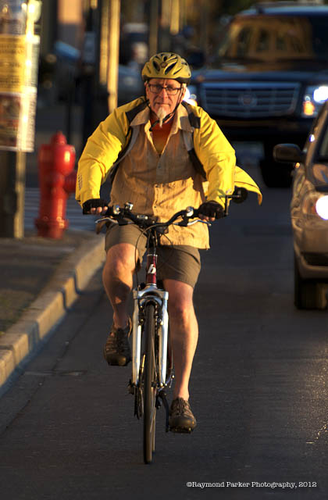bikerider: (51, 45, 276, 472)
